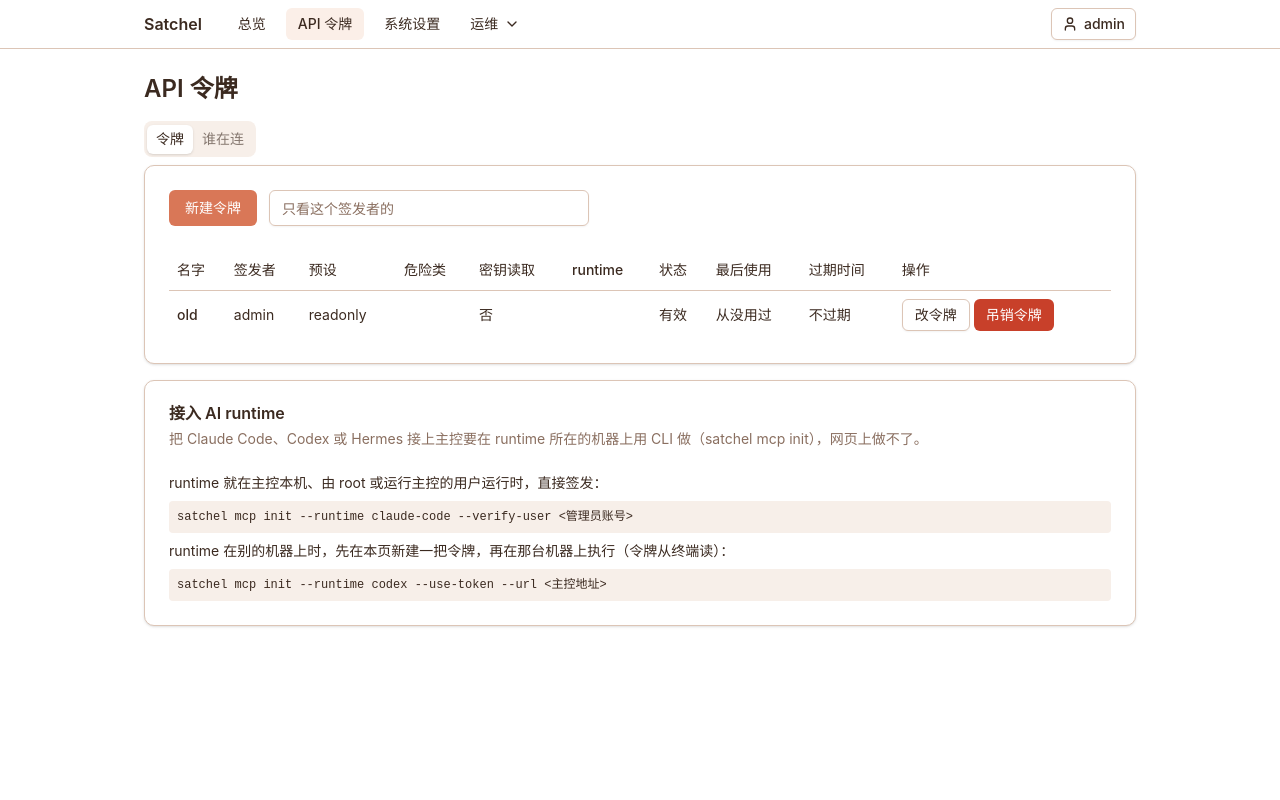
Test case: API 令牌页 › 吊销：说明不能恢复，确认并验证后列表显示已吊销
Click the button "吊销令牌".
click(1014, 314)  # box [974, 298, 1054, 330]
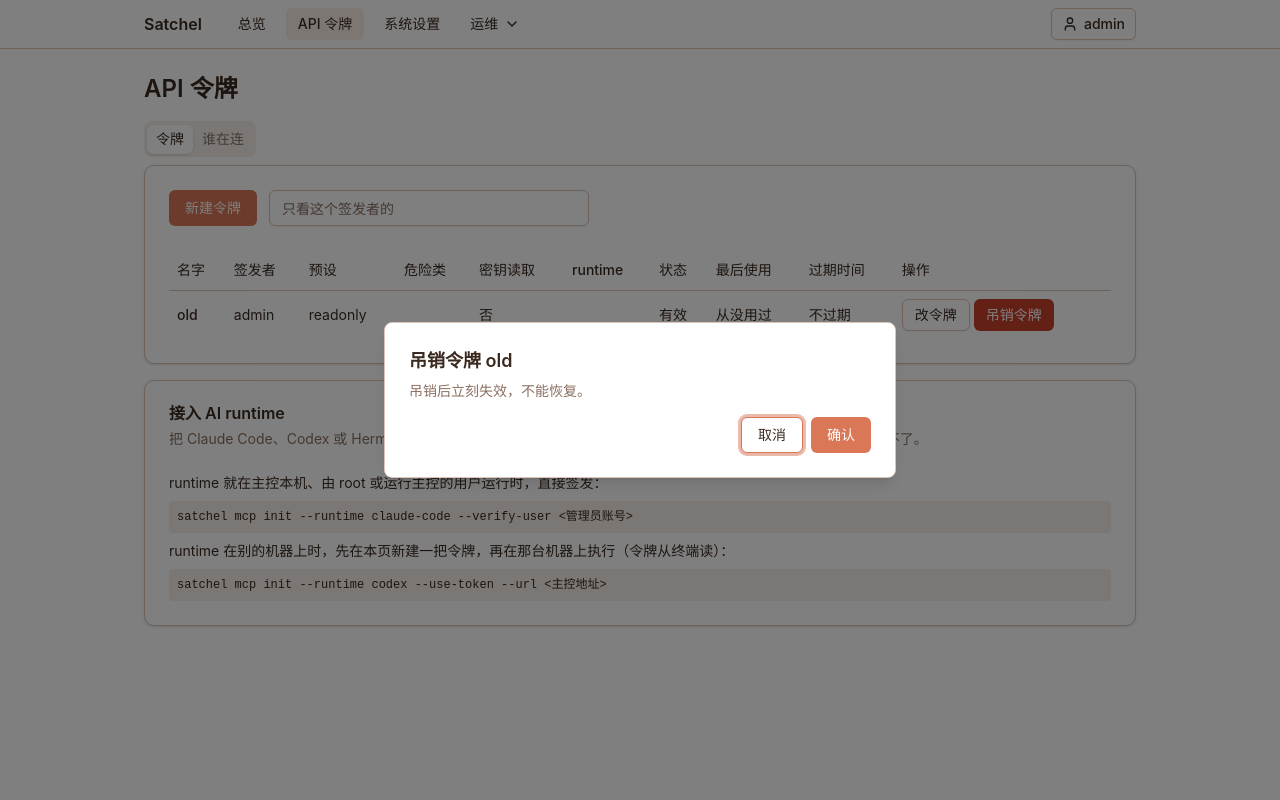
Expected: the text "吊销后立刻失效，不能恢复。" is shown, [409, 381, 591, 401]
Click the button "确认".
click(841, 435)  # box [811, 417, 871, 453]
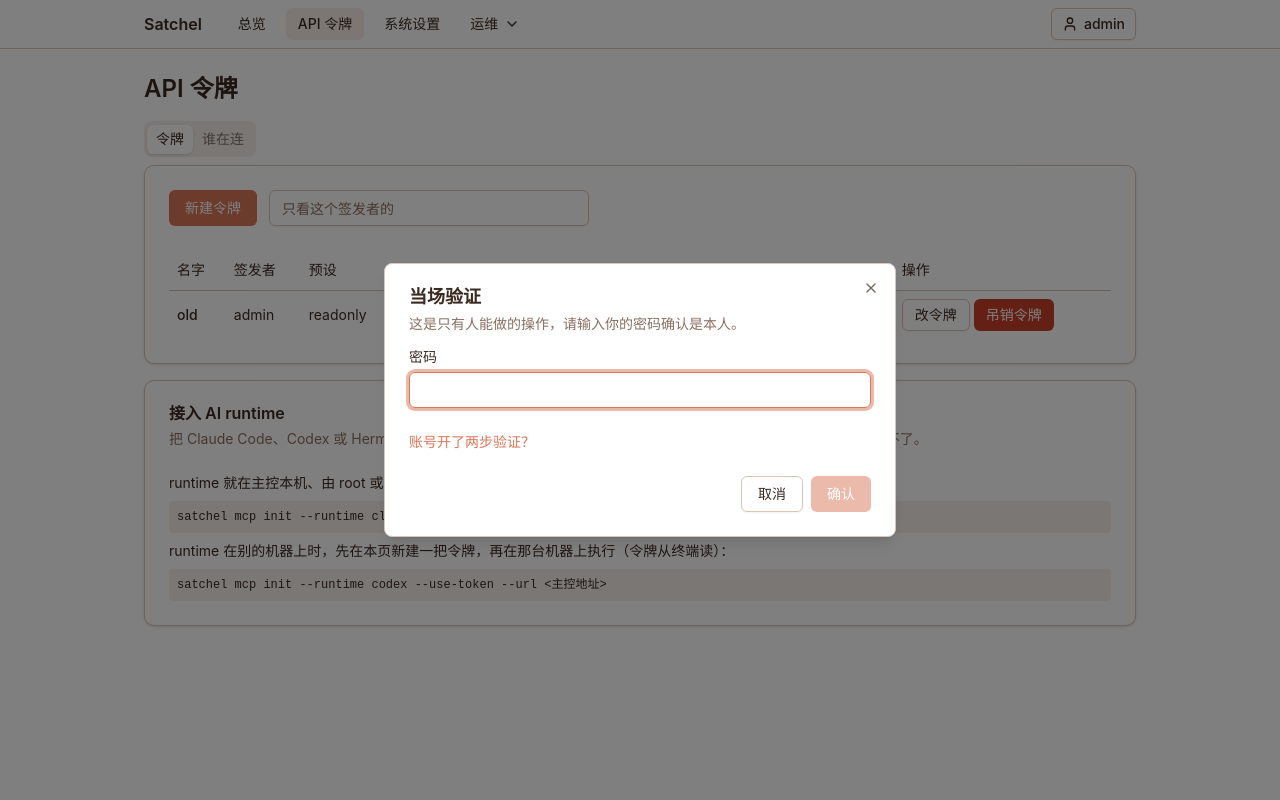
Type "secret12" into the password field labelled "密码".
click(640, 390); type("secret12")  # box [409, 372, 871, 408]
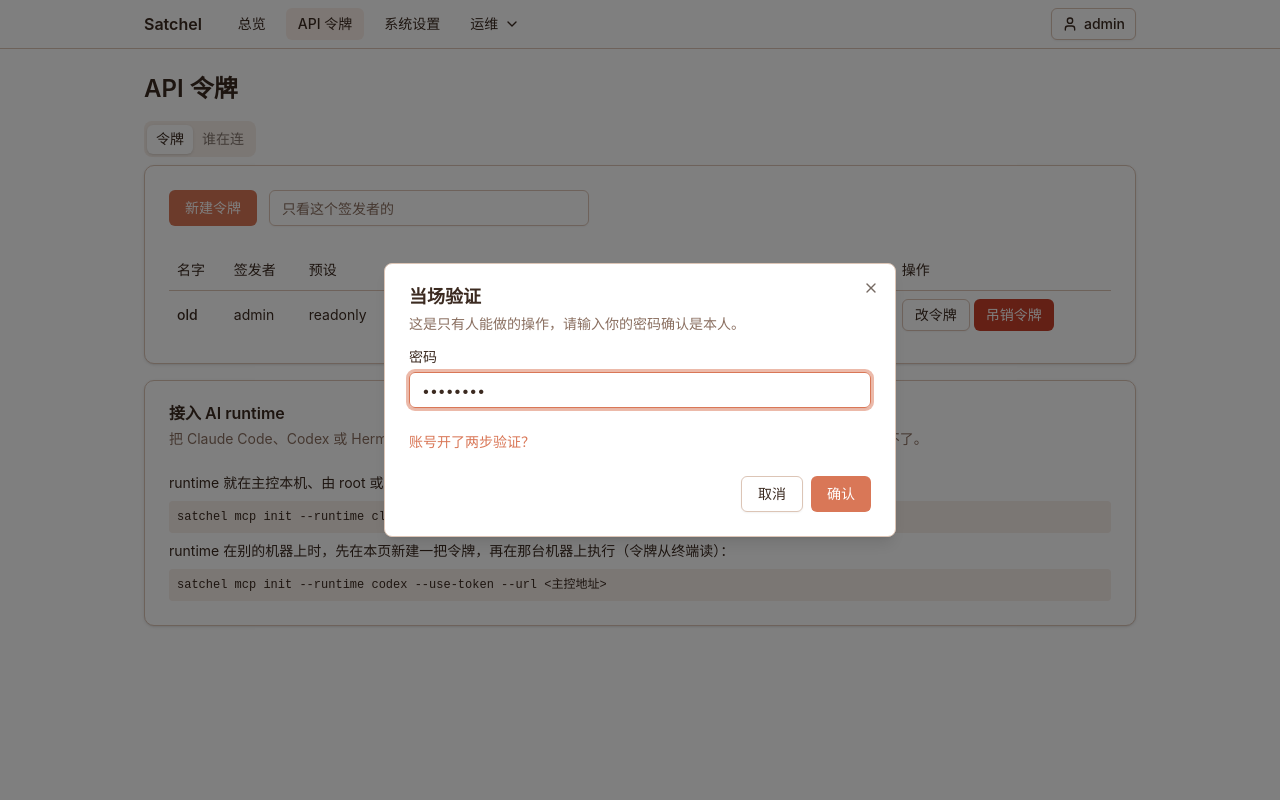
Click the button "确认".
click(841, 494)  # box [811, 476, 871, 512]
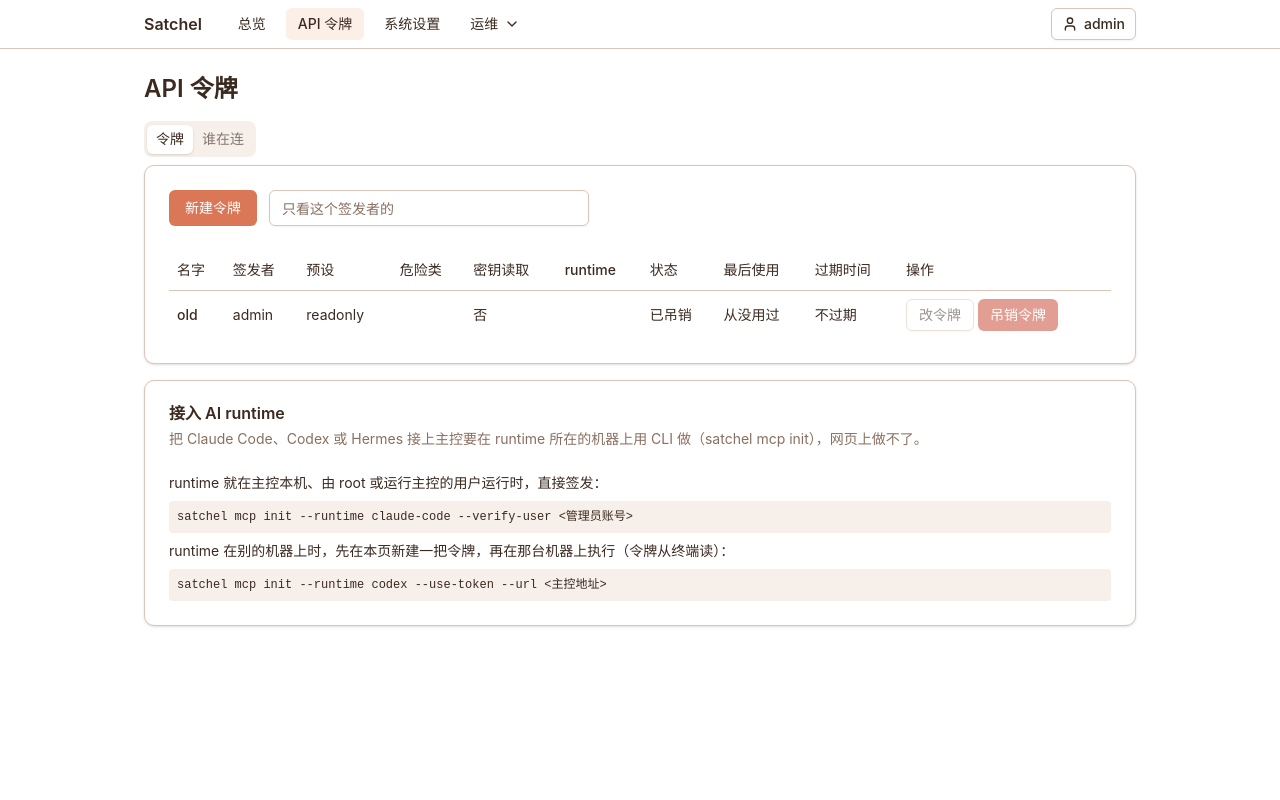
Expected: the text "已吊销" is shown, [642, 290, 715, 338]
